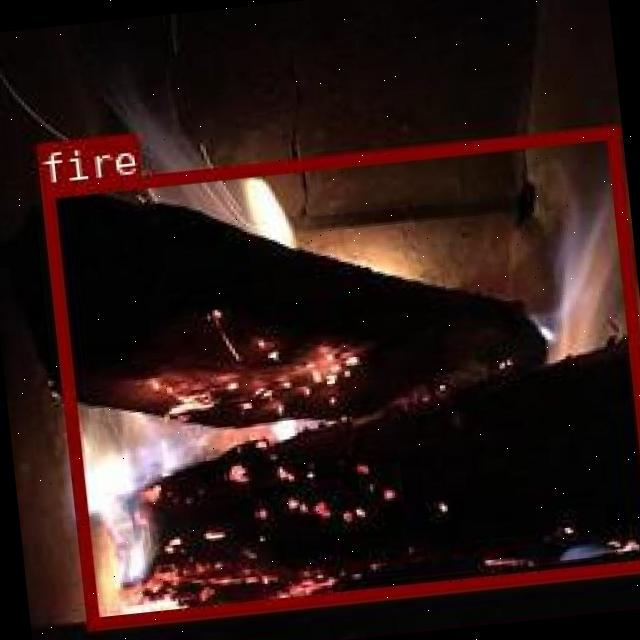fire: (39, 124, 640, 627)
